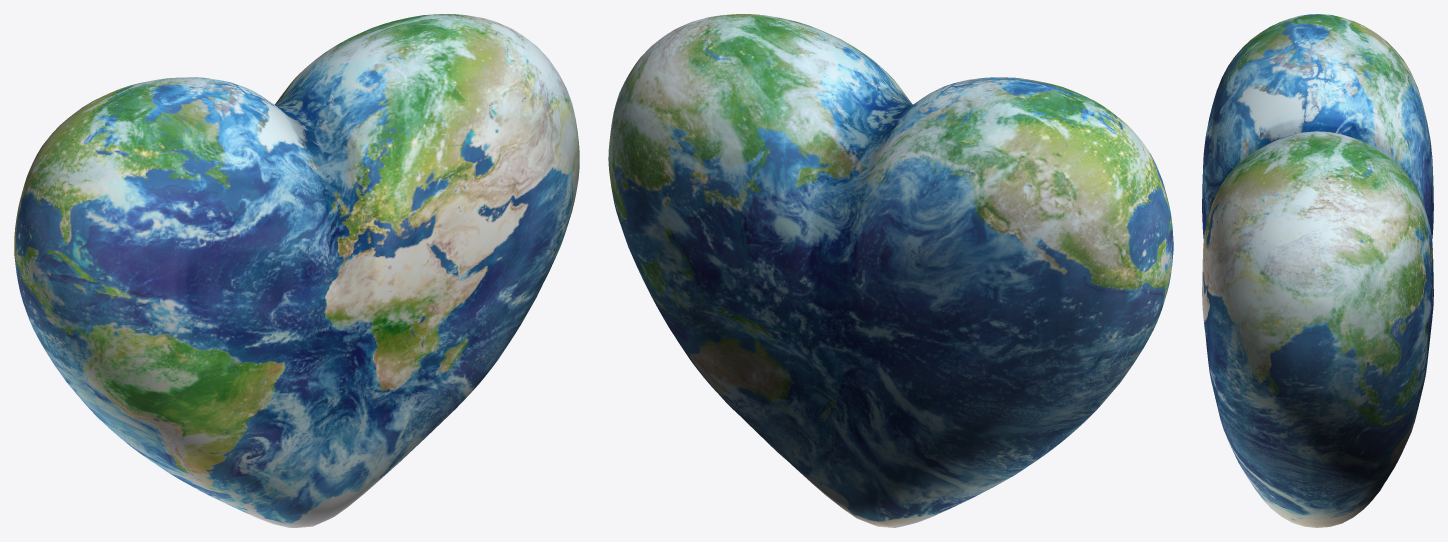
The model's file is topcon-new.glb.
The picture shows the model from 3 angles, left to right: view 1: azimuth 30°, elevation 25°; view 2: azimuth 150°, elevation 25°; view 3: azimuth 270°, elevation 25°; orthographic projection. The views are drawn at different scales.
Visible parts, largest first — view 1: HEART_REMESH; view 2: HEART_REMESH; view 3: HEART_REMESH.
Part boxes in pixels (x1,y1,x2,y2): HEART_REMESH: [14, 14, 579, 527]; HEART_REMESH: [608, 14, 1173, 527]; HEART_REMESH: [1202, 14, 1433, 527].
Bounding box in the file's own units: 0.1965 × 0.1619 × 0.0786.
1 material, 1 textured.
